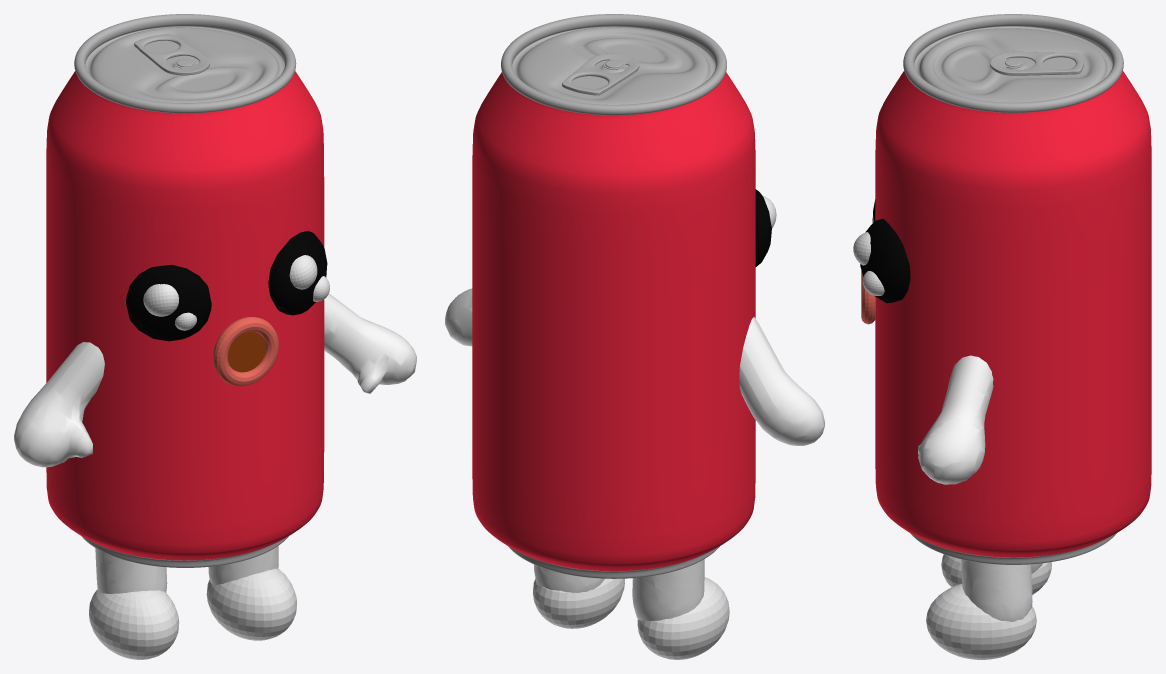
Rendered from soda_canhaha.fbx.
3 views of the same model, side by side, from view 1: azimuth 30°, elevation 25°; view 2: azimuth 150°, elevation 25°; view 3: azimuth 270°, elevation 25° (orthographic). The views are drawn at different scales.
Visible parts, largest first — view 1: cola, Mball, eye balls (×2), Sphere.004, Sphere.005, lips, mouth, Sphere, Sphere.001; view 2: cola, Mball, Sphere.004, Sphere.005, eye balls; view 3: cola, Mball, Sphere.005, eye balls, Sphere.004, lips, Sphere.001.
Boxes of the visible parts, x1,y1,x2,y2 form: cola: (46,14,324,567); Mball: (14,293,416,593); eye balls (×2): (126,230,327,341); Sphere.004: (89,589,179,659); Sphere.005: (206,568,296,640); lips: (213,317,278,386); mouth: (228,331,266,372); Sphere: (143,284,178,316); Sphere.001: (289,255,317,289); cola: (472,14,755,578); Mball: (445,288,824,620); Sphere.004: (637,577,729,659); Sphere.005: (533,578,624,628); eye balls: (755,189,771,266); cola: (875,14,1151,564); Mball: (918,355,1042,621); Sphere.005: (926,584,1036,659); eye balls: (860,218,910,303); Sphere.004: (941,554,1051,594); lips: (861,270,875,324); Sphere.001: (853,232,870,265).
Bounding box in the file's own units: 273 × 395 × 187.
